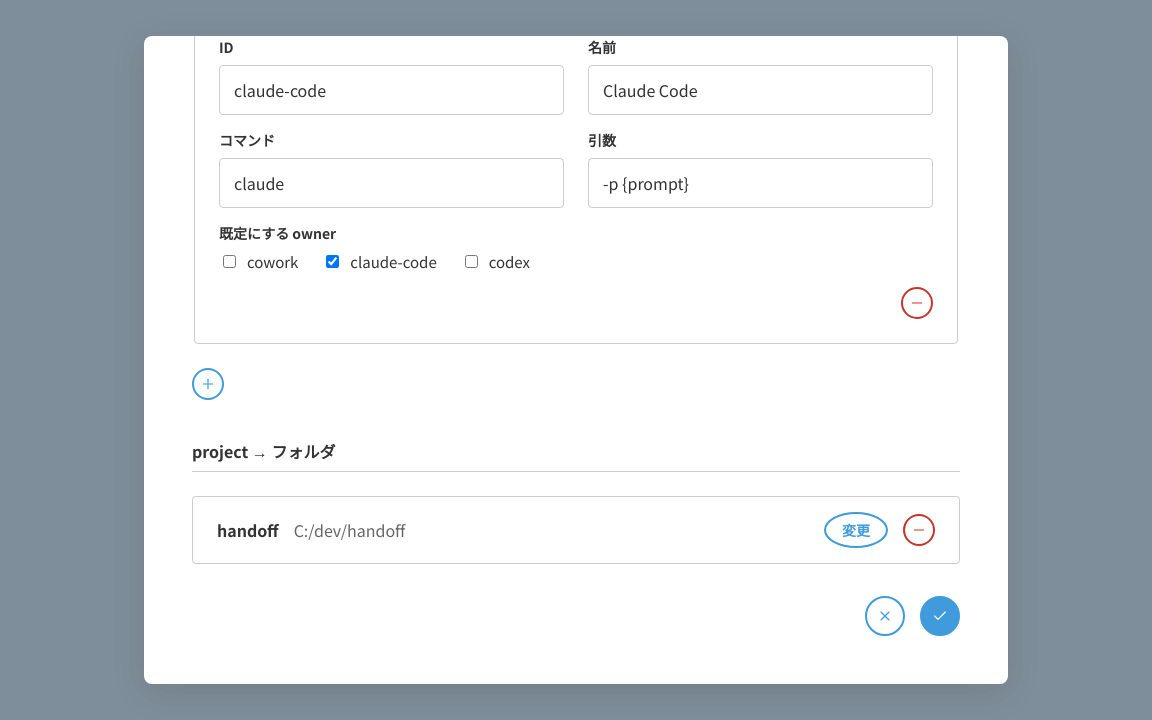
Test: DesktopSettingsDialog › 保存失敗（検証エラー）はダイアログ内に表示する
This screenshot has width=1152, height=720.
(page scrolled)
What coordinates should you click on to do the following:
click the button named "保存"
I would click on:
 (940, 616)
Its box is [920,596,960,636].
(page scrolled)
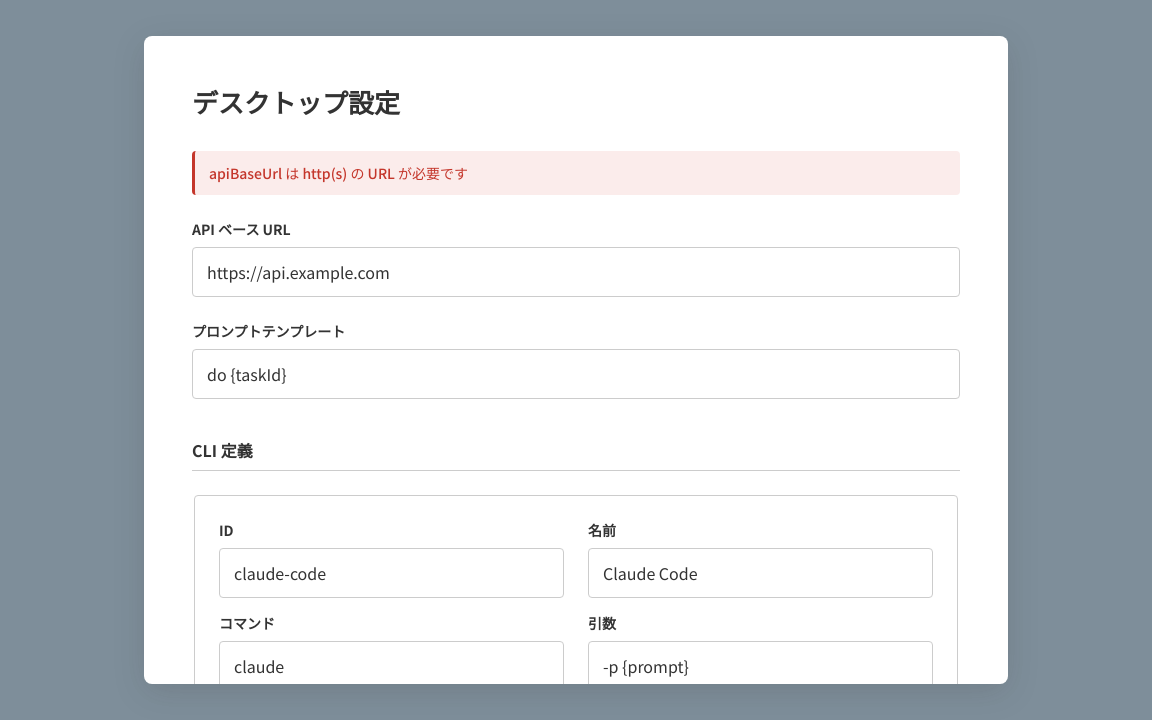
Check: the message shows "apiBaseUrl", box [209,163,468,183]
